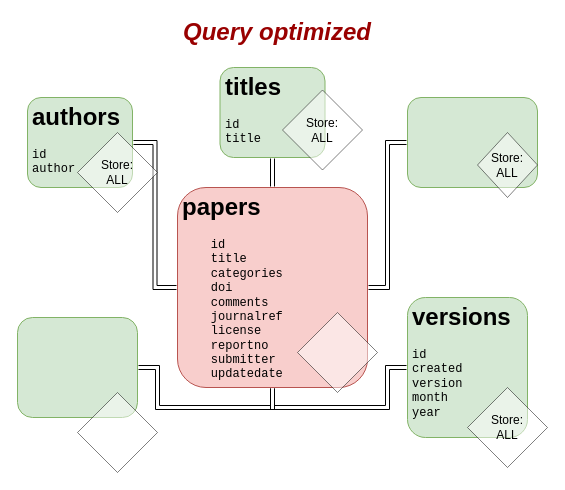
The diagram is 565 pixels wide and 490 high, and some of its shapes have lost their labels. The box of each missing label's shape, as (x1, y1, x2, y2) in pixels:
abstracts id abstract origin: (16, 316, 138, 418)
categories id category: (406, 96, 538, 188)
Store: AUTO: (76, 392, 158, 472)
Store: EVEN: (296, 312, 378, 392)
